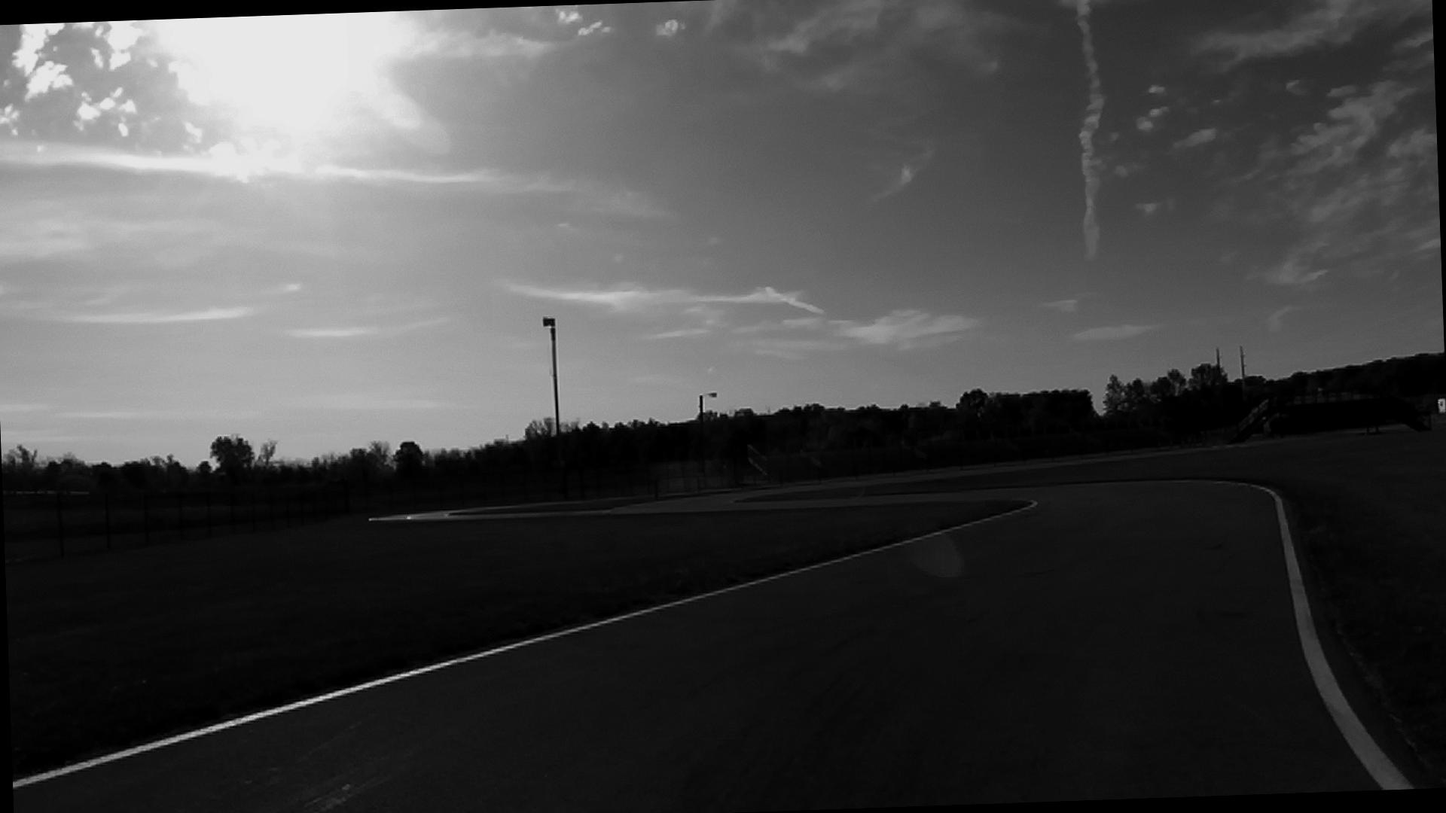white-line: (13, 501, 1038, 791), (1224, 482, 1420, 790)
